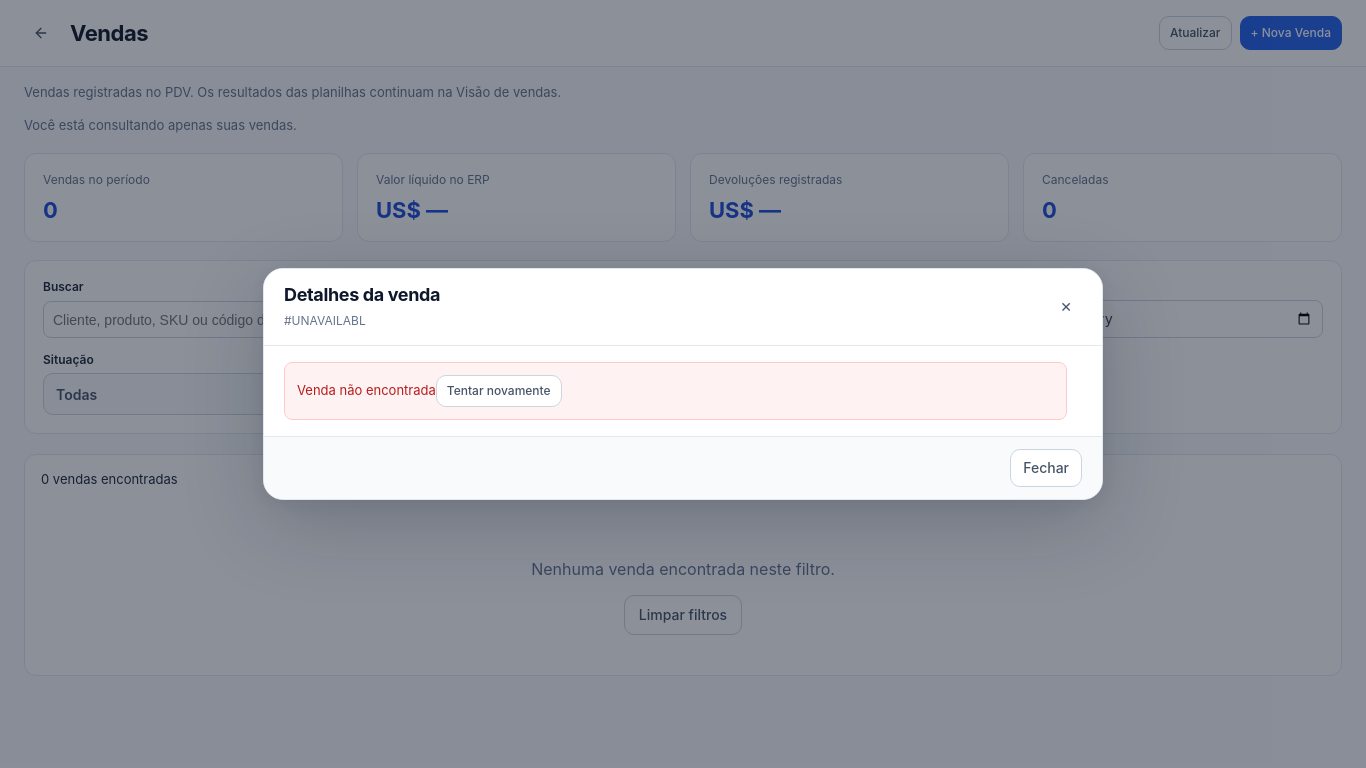
Test: Customer-to-sale navigation › surfaces denial from the detail API independently of the sales list and can retry
Check: the message "Venda não encontrada Tentar novamente" is shown, box [284,362,1067,420]
Check: the element with class "sales-results" is shown, box [24,454,1342,676]
Step 1. Click the button "Tentar novamente" → (499,391), box [436,375,562,407]
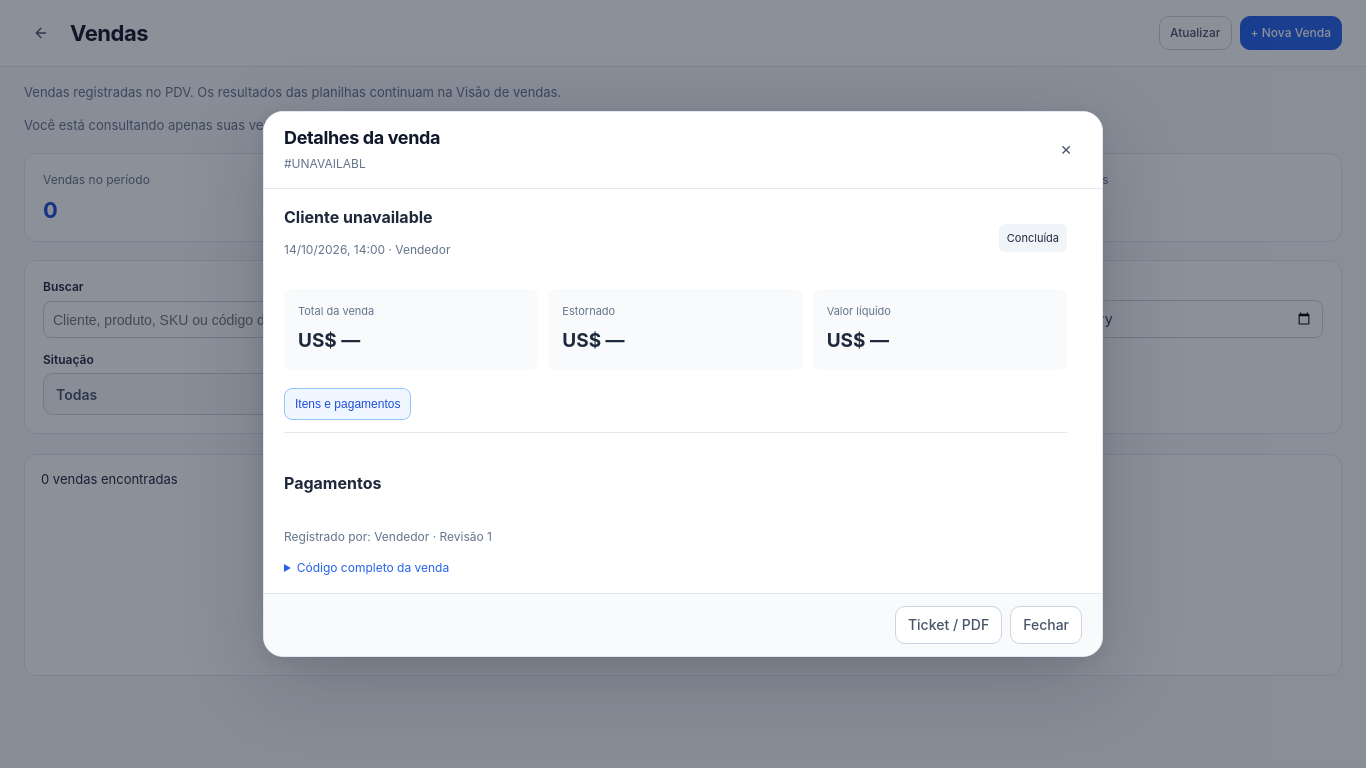
Check: the dialog shows "Cliente unavailable", box [284,207,433,227]
